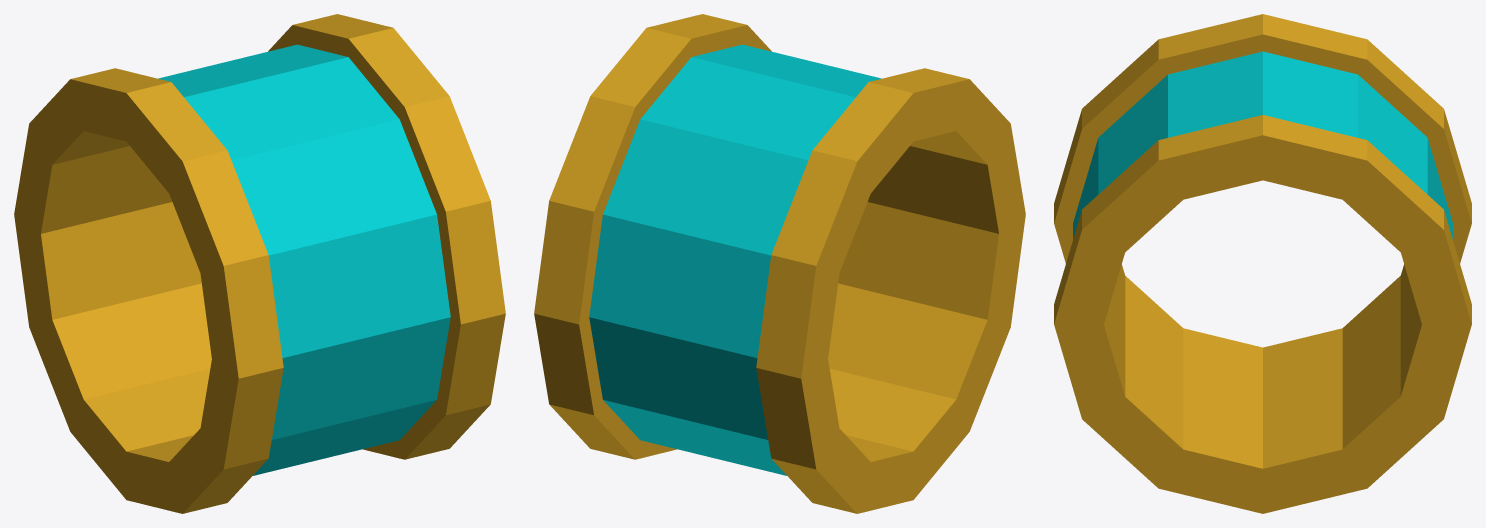
The model's file is Prop_Jungle_Temple_Band_Ornament_Gold_Gem_01.FBX.
3 renders of one model, left to right at view 1: azimuth 30°, elevation 25°; view 2: azimuth 150°, elevation 25°; view 3: azimuth 270°, elevation 25°, orthographic. The views are drawn at different scales.
Visible parts, largest first — view 1: Prop_Jungle_Temple_Band_Ornament_Gold_Gem_01; view 2: Prop_Jungle_Temple_Band_Ornament_Gold_Gem_01; view 3: Prop_Jungle_Temple_Band_Ornament_Gold_Gem_01.
Boxes of the visible parts, bbox=[...] form: Prop_Jungle_Temple_Band_Ornament_Gold_Gem_01: bbox=[14, 14, 505, 513]; Prop_Jungle_Temple_Band_Ornament_Gold_Gem_01: bbox=[534, 14, 1025, 513]; Prop_Jungle_Temple_Band_Ornament_Gold_Gem_01: bbox=[1054, 14, 1471, 513].
Bounding box in the file's own units: 489 × 713 × 713.
